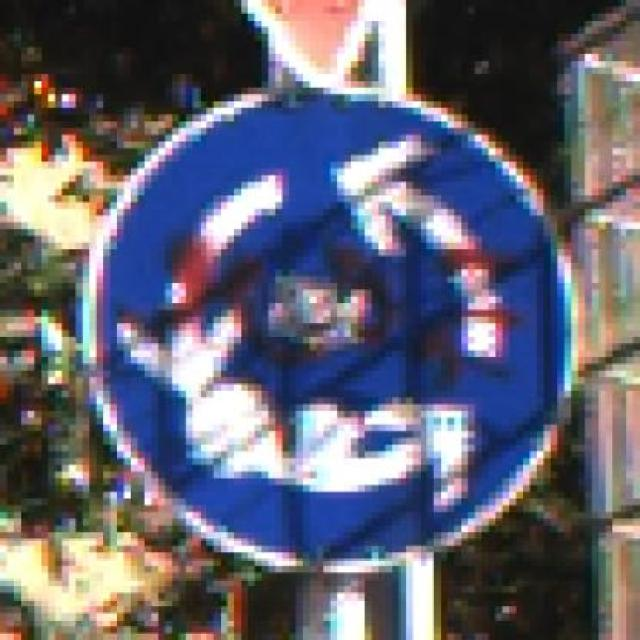Round-About: (62, 67, 612, 607)
